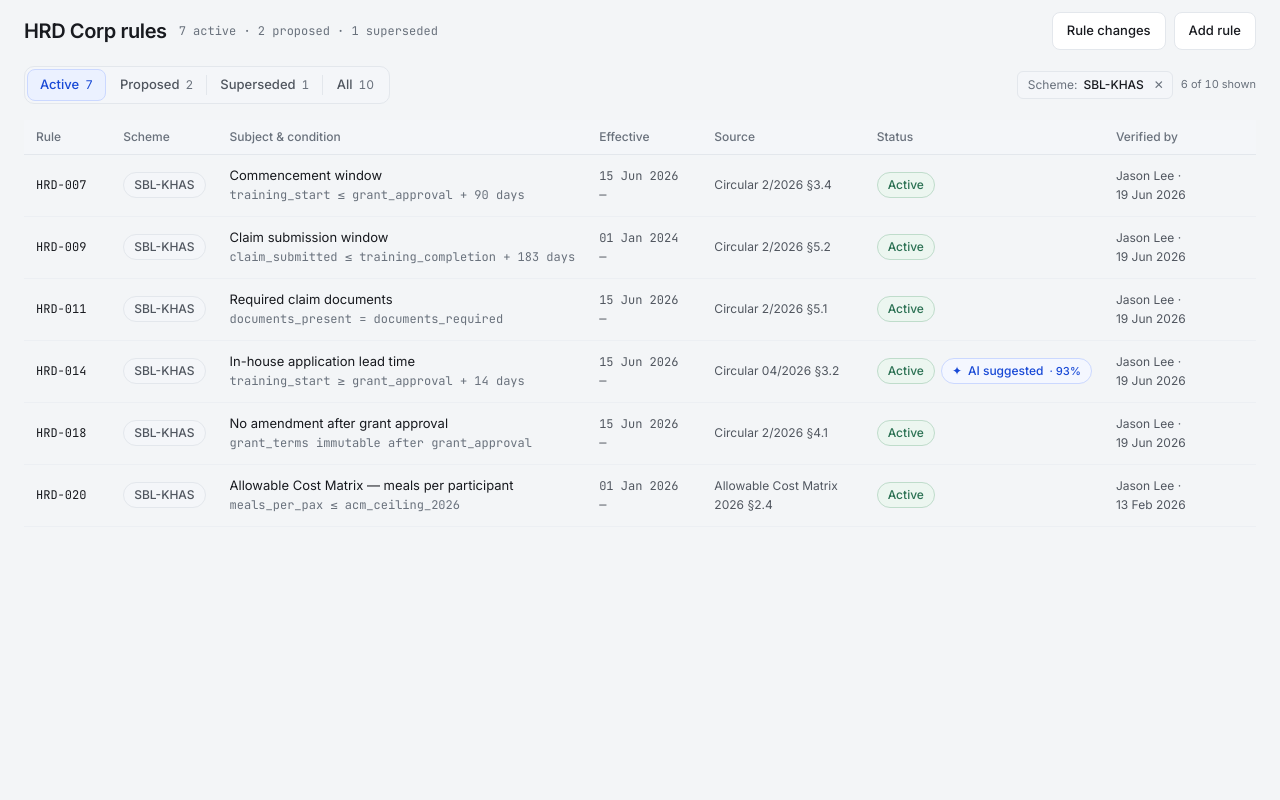
Test: M12-S07 · rules registry › tells the reader the rule was refused instead of leaving the drawer open and silent
Click the button "Add rule" at (1215, 31), box [1174, 12, 1256, 50]
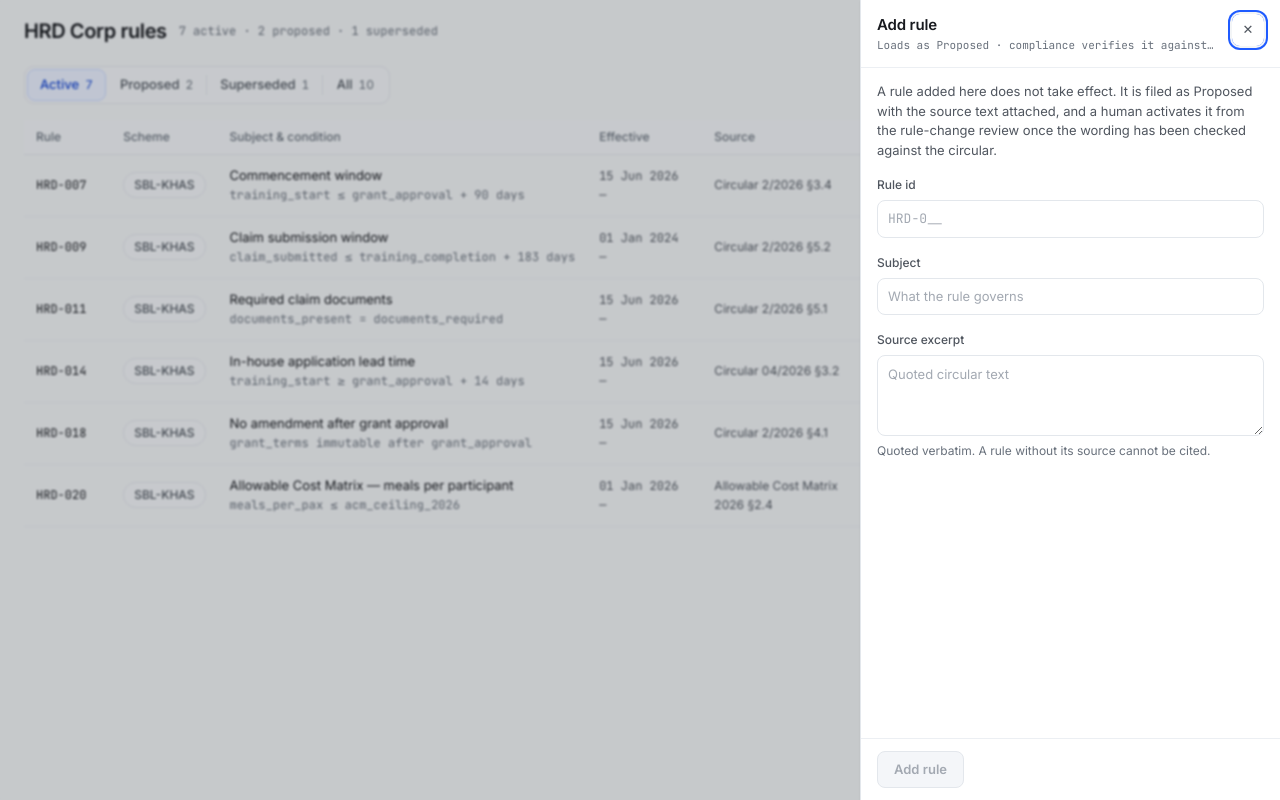
Type "HRD-999" into the field labelled "Rule id" at (1070, 219), box [877, 200, 1264, 238]
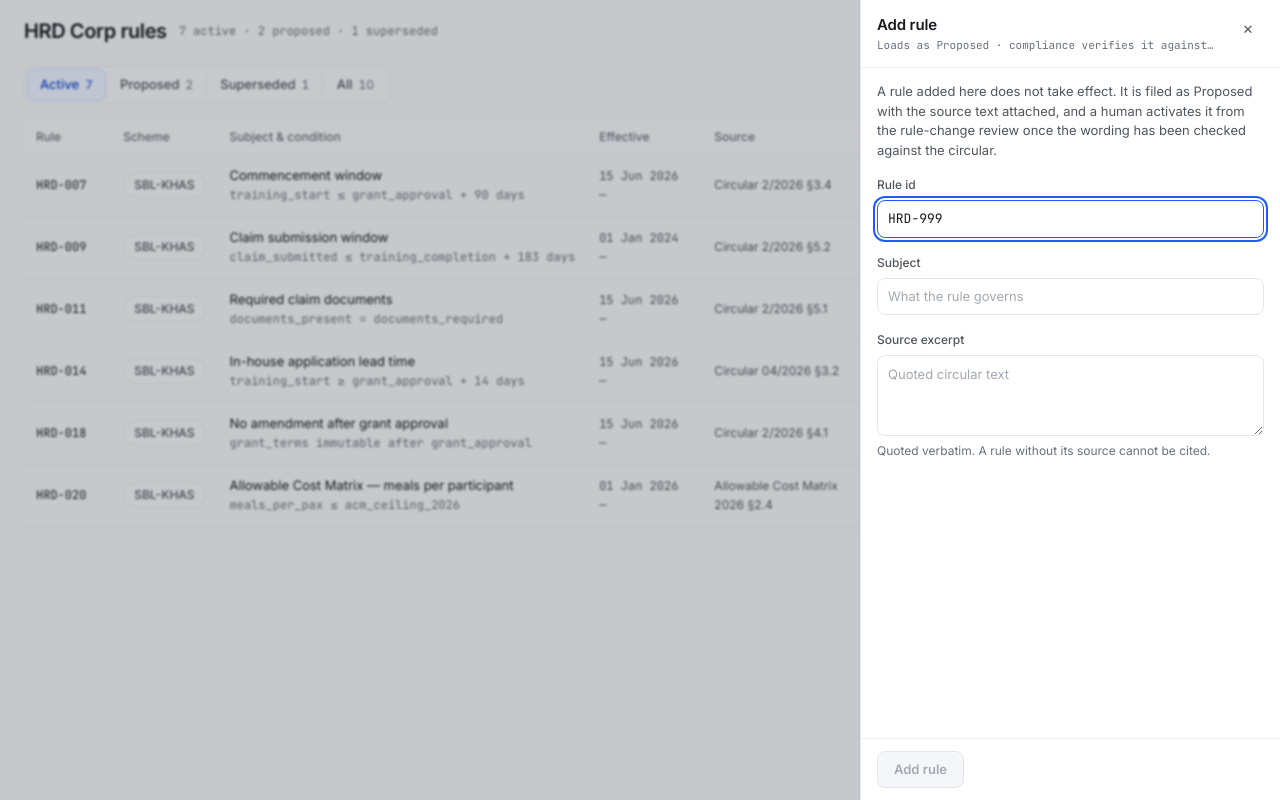
Type "A rule nobody may file" into the field labelled "Subject" at (1070, 296), box [877, 278, 1264, 315]
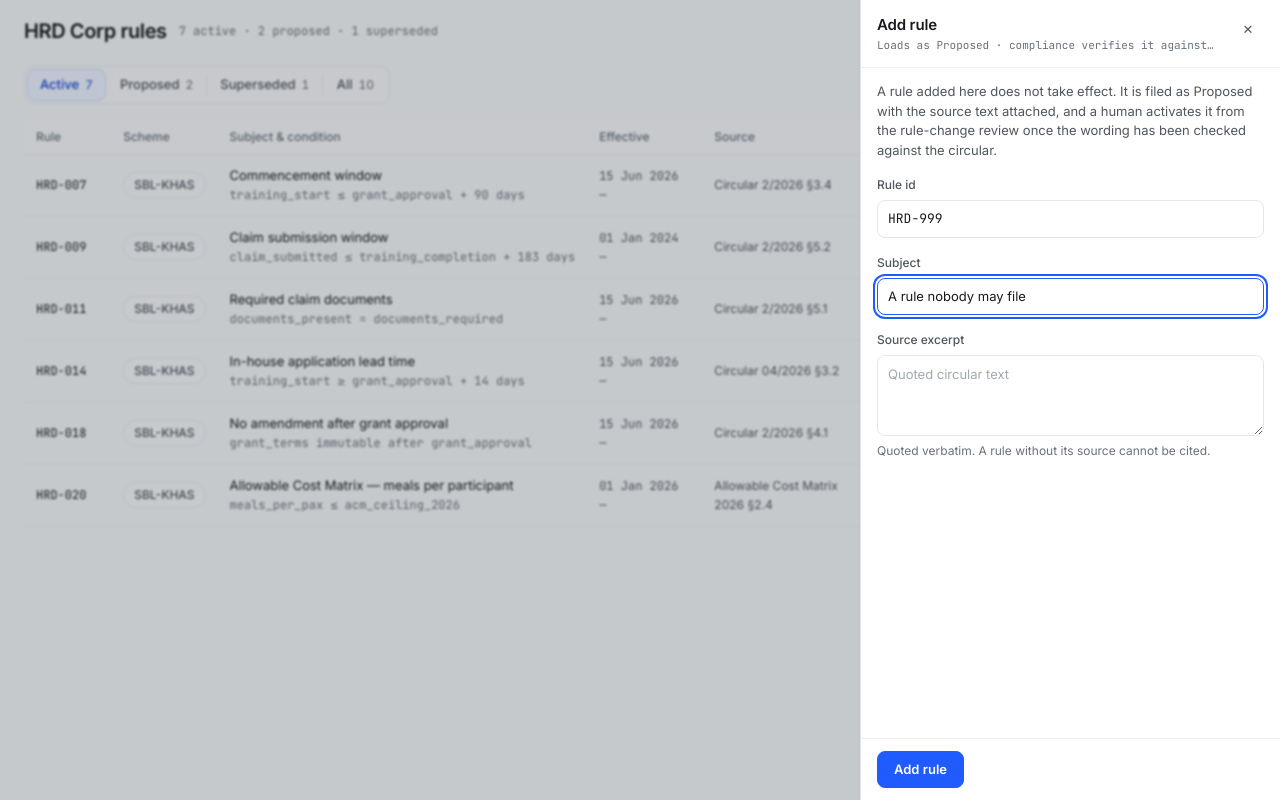
Click the button "Add rule" at (920, 769), box [877, 750, 964, 788]
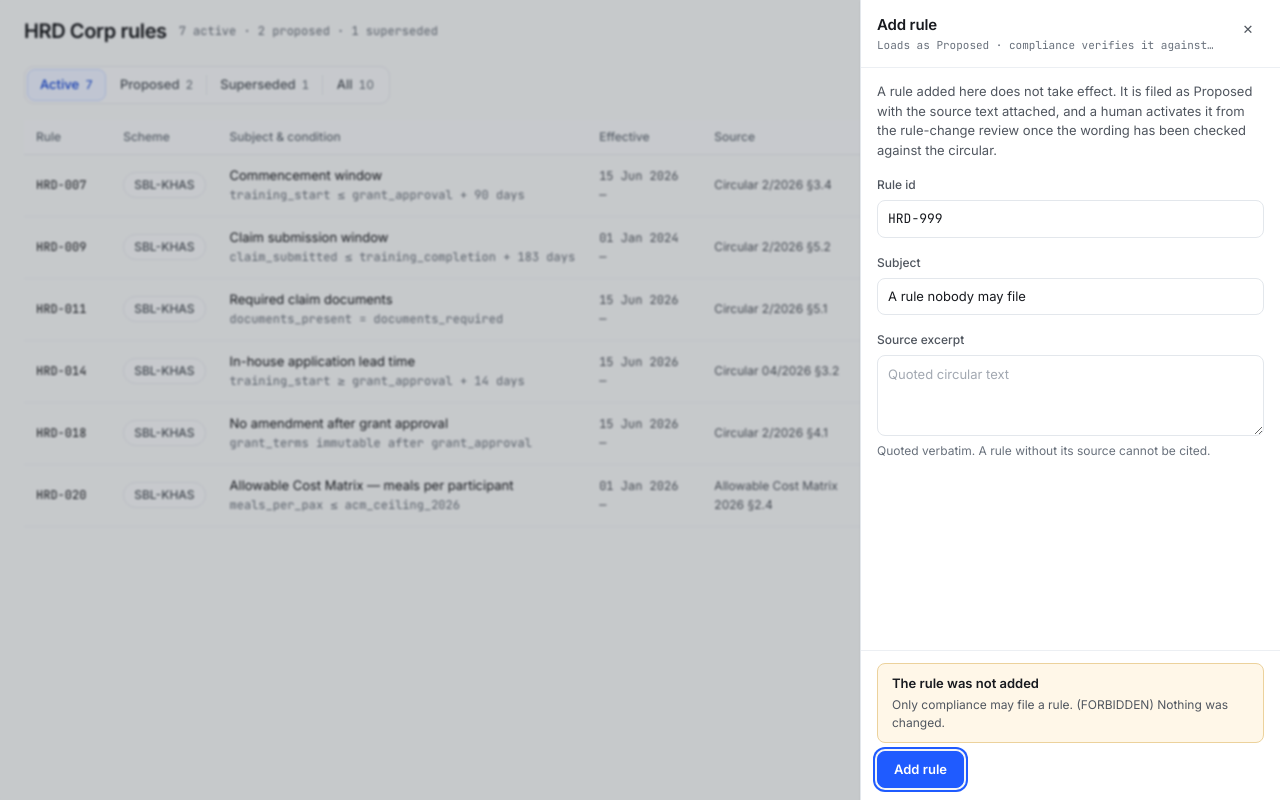
Expected: the text "The rule was not added" is shown, [892, 675, 1039, 691]
